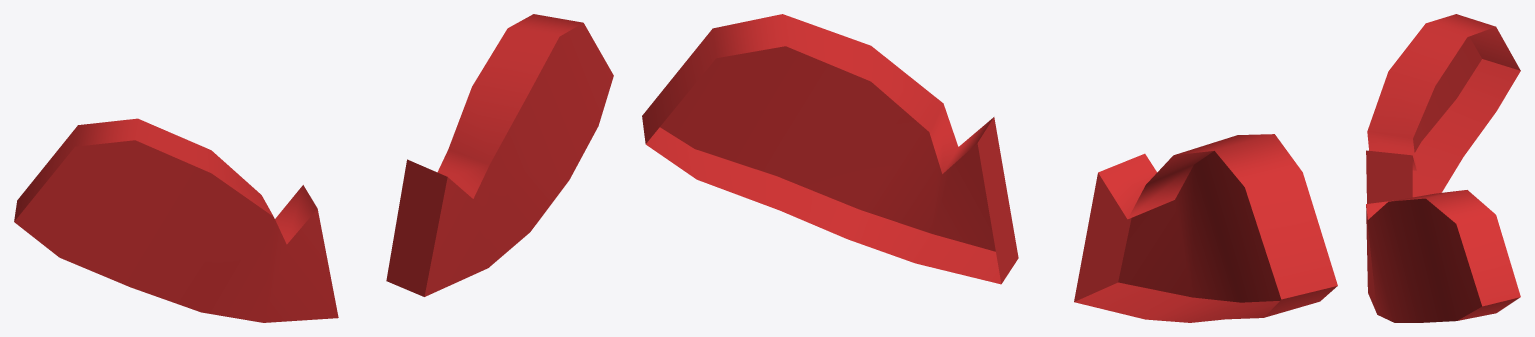
Rendered from Brow_Red_10.fbx.
3 views of the same model, side by side, from view 1: azimuth 30°, elevation 25°; view 2: azimuth 150°, elevation 25°; view 3: azimuth 270°, elevation 25° (orthographic). The views are drawn at different scales.
Parts seen in each view (by area): view 1: Brow_Red_10; view 2: Brow_Red_10; view 3: Brow_Red_10.
Part boxes in pixels (x1,y1,x2,y2): Brow_Red_10: (14,14,613,322); Brow_Red_10: (642,14,1337,322); Brow_Red_10: (1366,14,1520,322).
Bounding box in the file's own units: 40.26 × 12.48 × 10.64.
